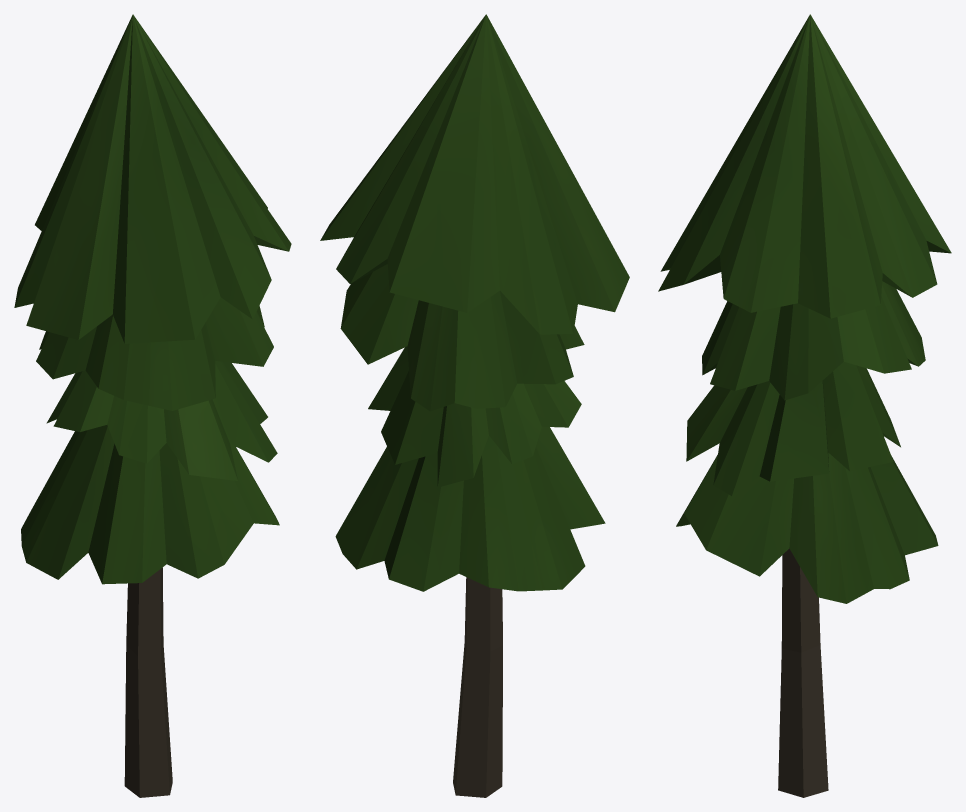
The model's file is Forest_A_FirTree_09.fbx.
3 views of the same model, side by side, from view 1: azimuth 30°, elevation 25°; view 2: azimuth 150°, elevation 25°; view 3: azimuth 270°, elevation 25° (orthographic).
Visible parts, largest first — view 1: Forest_A_FirTree_09; view 2: Forest_A_FirTree_09; view 3: Forest_A_FirTree_09.
Boxes of the visible parts, x1=… form: Forest_A_FirTree_09: x1=14, y1=14, x2=291, y2=797; Forest_A_FirTree_09: x1=320, y1=14, x2=629, y2=797; Forest_A_FirTree_09: x1=658, y1=14, x2=951, y2=797.
Bounding box in the file's own units: 154 × 432 × 150.
